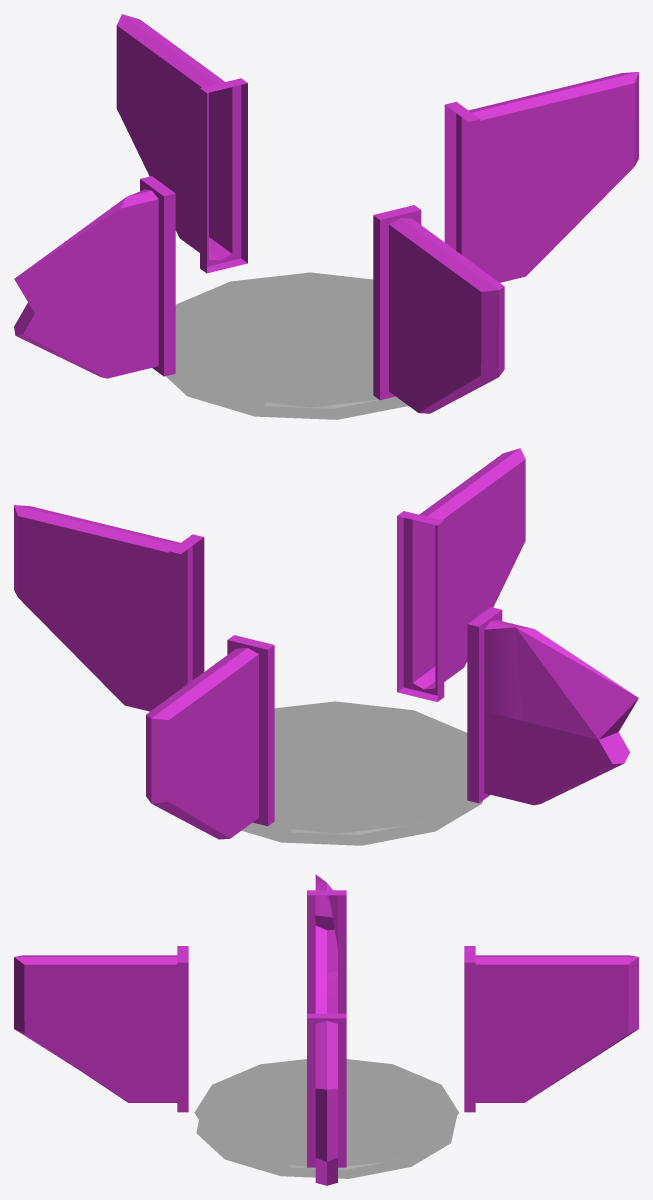
The model's file is Tower_attachment.fbx.
3 views of the same model, one above another, from view 1: azimuth 30°, elevation 25°; view 2: azimuth 150°, elevation 25°; view 3: azimuth 270°, elevation 25° (orthographic). The views are drawn at different scales.
Parts seen in each view (by area): view 1: polySurface62, polySurface43, polySurface58, polySurface55, polySurface56, polySurface42; view 2: polySurface62, polySurface58, polySurface43, polySurface56, polySurface55, polySurface42; view 3: polySurface55, polySurface56, polySurface43, polySurface62, polySurface58, polySurface42.
Boxes of the visible parts, box(x1,y1,x2,y2) form: polySurface62: box(444, 72, 638, 282); polySurface43: box(174, 272, 392, 407); polySurface58: box(14, 176, 175, 378); polySurface55: box(116, 14, 247, 273); polySurface56: box(373, 205, 504, 413); polySurface42: box(165, 374, 408, 419); polySurface62: box(14, 505, 204, 711); polySurface58: box(467, 607, 638, 805); polySurface43: box(253, 701, 469, 833); polySurface56: box(397, 448, 525, 701); polySurface55: box(146, 635, 274, 839); polySurface42: box(242, 801, 482, 845); polySurface55: box(464, 946, 638, 1112); polySurface56: box(14, 946, 188, 1112); polySurface43: box(194, 1059, 458, 1166); polySurface62: box(307, 1013, 346, 1185); polySurface58: box(307, 874, 346, 1013); polySurface42: box(196, 1117, 456, 1178).
Size of the model in its own units: 27.64 by 8.85 by 28.58.
